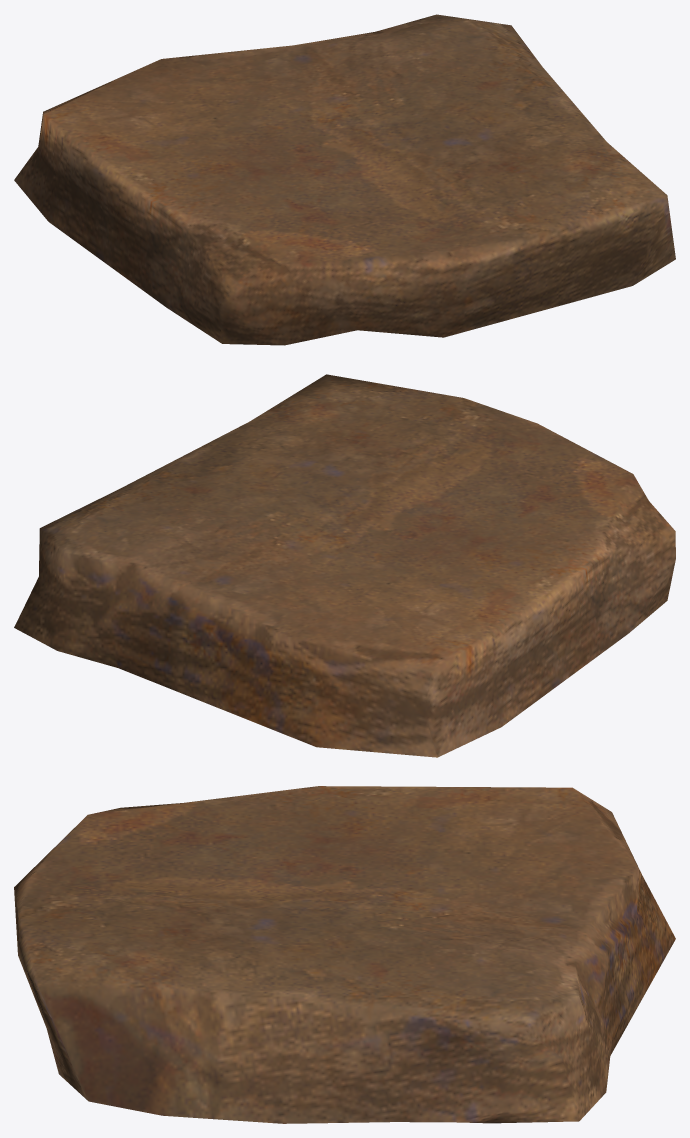
The model's file is Rock_Shales_10.fbx.
3 views of the same model, one above another, from view 1: azimuth 30°, elevation 25°; view 2: azimuth 150°, elevation 25°; view 3: azimuth 270°, elevation 25° (orthographic). The views are drawn at different scales.
Visible parts, largest first — view 1: polySurface235; view 2: polySurface235; view 3: polySurface235.
Boxes of the visible parts, x1,y1,x2,y2 form: polySurface235: (14,14,675,345); polySurface235: (14,374,675,757); polySurface235: (14,786,675,1123).
Bounding box in the file's own units: 70 × 13.96 × 75.49.
